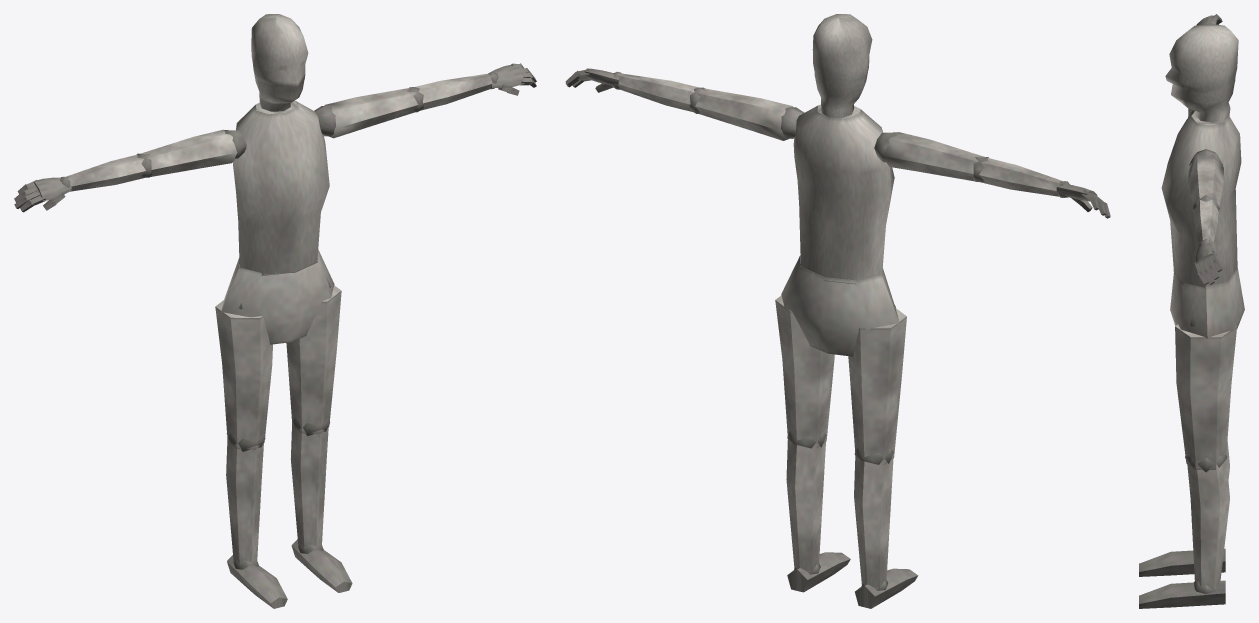
Rendered from mannequin_woman.obj.
3 renders of one model, left to right at view 1: azimuth 30°, elevation 25°; view 2: azimuth 150°, elevation 25°; view 3: azimuth 270°, elevation 25°, orthographic. The views are drawn at different scales.
Parts seen in each view (by area): view 1: mannequin_woman_mesh; view 2: mannequin_woman_mesh; view 3: mannequin_woman_mesh.
Part boxes in pixels (<box>): mannequin_woman_mesh: <box>14,14,536,608</box>; mannequin_woman_mesh: <box>565,14,1110,608</box>; mannequin_woman_mesh: <box>1139,14,1244,608</box>.
Bounding box in the file's own units: 1.64 × 1.67 × 0.285.
Materials: 1 (1 with a texture image).
